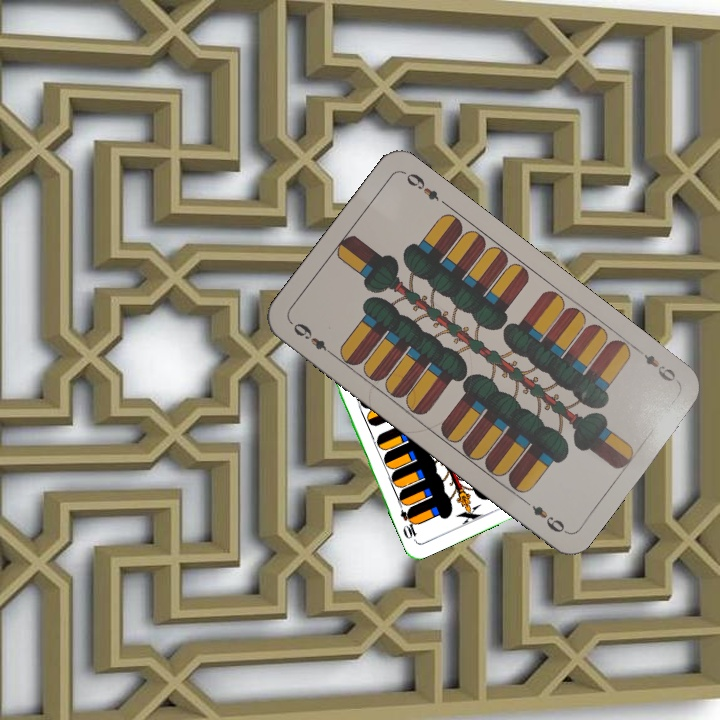E9: (287, 318, 337, 359), (632, 343, 679, 385)
